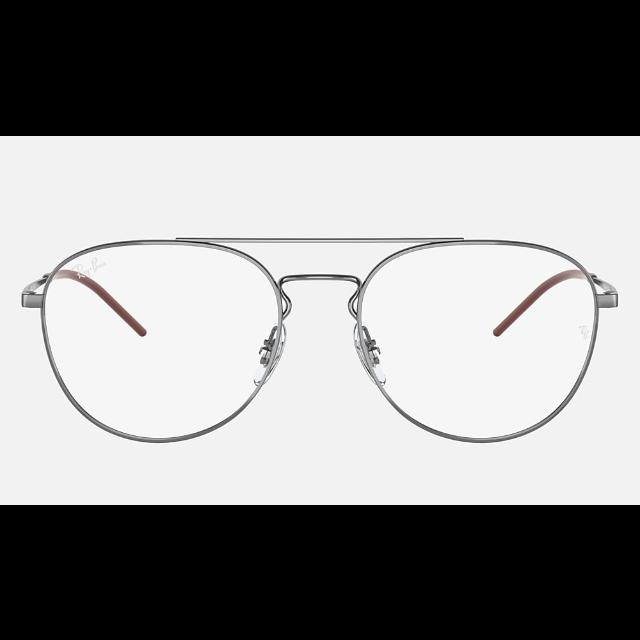glasses: (25, 235, 618, 443)
